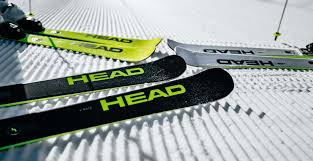skis: (1, 55, 233, 149), (1, 20, 163, 64), (164, 37, 313, 72)
